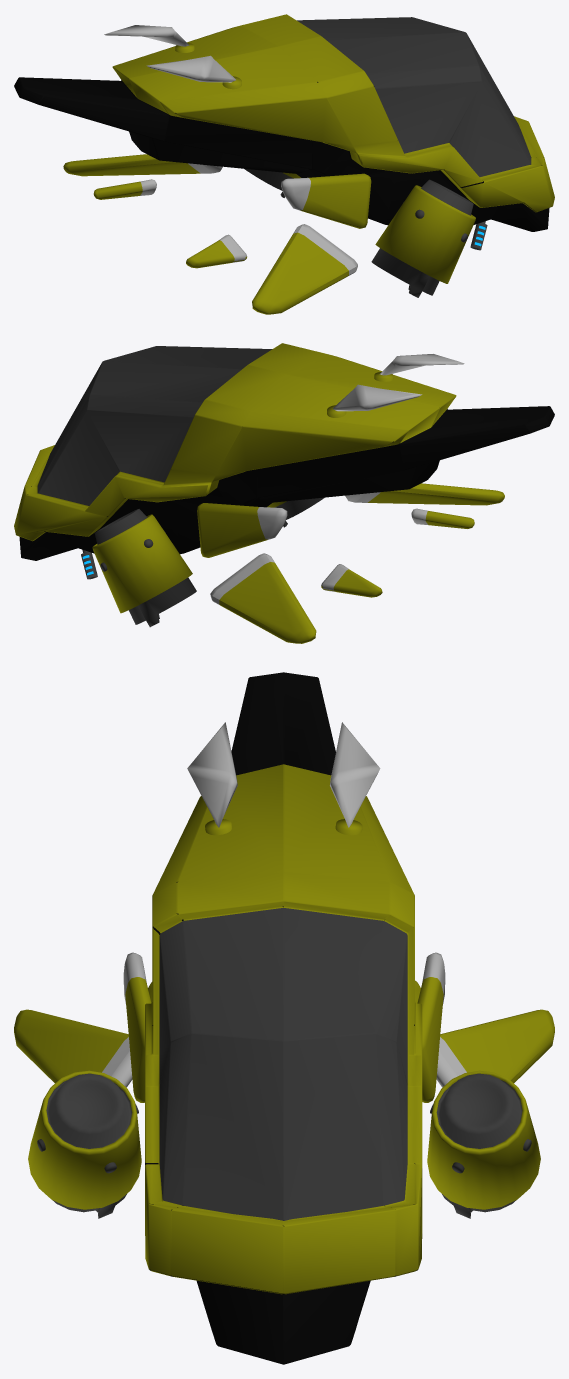
Rendered from SmallShip.fbx.
The picture shows the model from 3 angles, top to bottom: view 1: azimuth 30°, elevation 25°; view 2: azimuth 150°, elevation 25°; view 3: azimuth 270°, elevation 25°; orthographic projection. The views are drawn at different scales.
Visible parts, largest first — view 1: SmallFlight; view 2: SmallFlight; view 3: SmallFlight.
Part boxes in pixels (x1=…): SmallFlight: x1=14, y1=14, x2=554, y2=314; SmallFlight: x1=14, y1=343, x2=554, y2=643; SmallFlight: x1=14, y1=672, x2=554, y2=1364.
Size of the model in its own units: 13.59 by 6.39 by 8.72.
